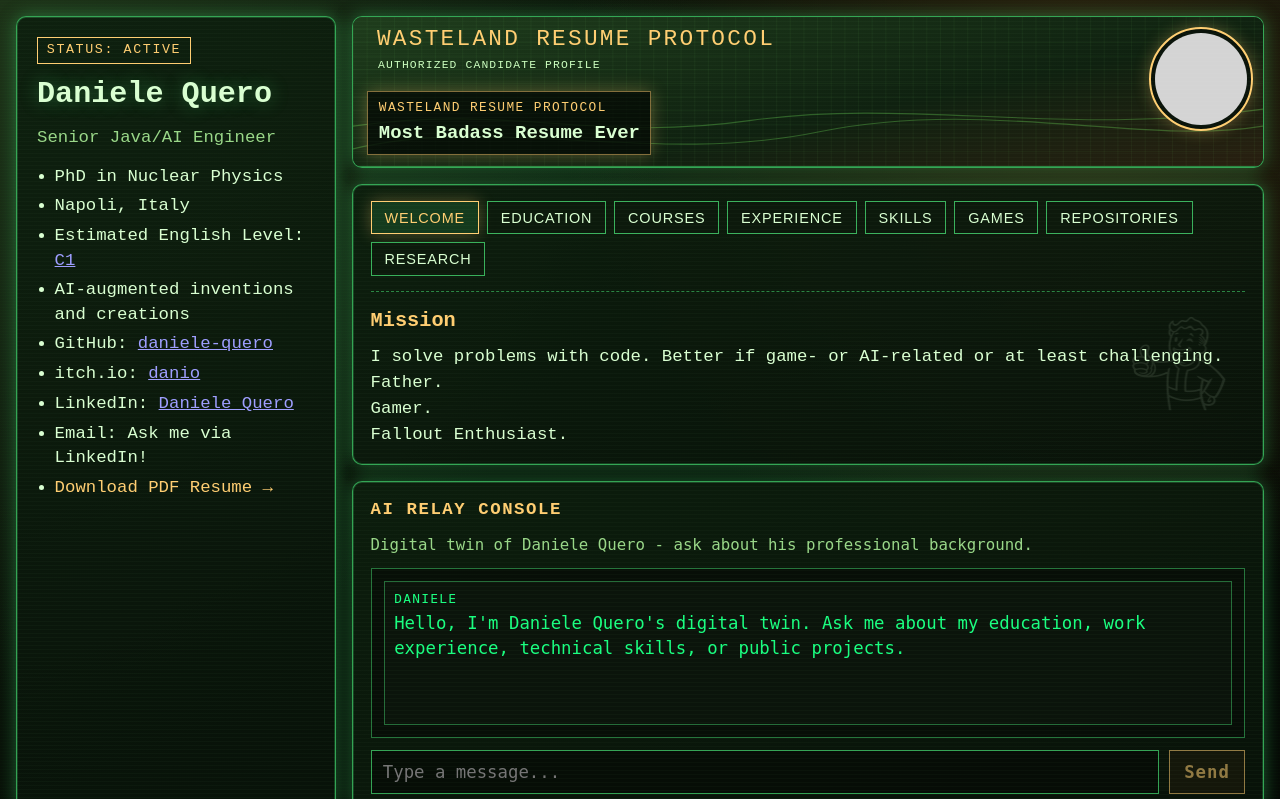
Test: App - chat visibility by active tab › renders Game as clickable label in Games without showing raw Link URL text
The image size is (1280, 799).
Click the tab "Games". click: [996, 218]
box: [954, 201, 1038, 234]
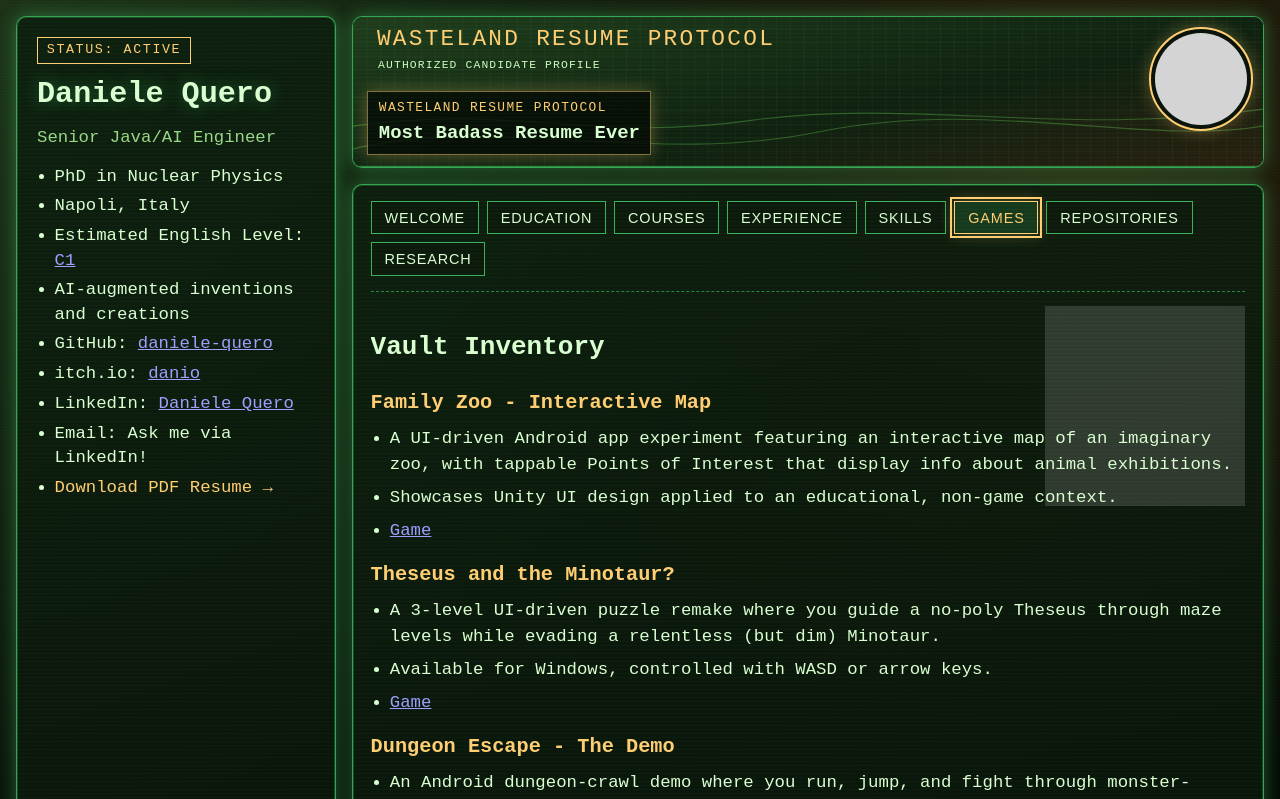
Result: the link "Game" below "Family Zoo - Interactive Map" is shown at [390, 521, 431, 540]
